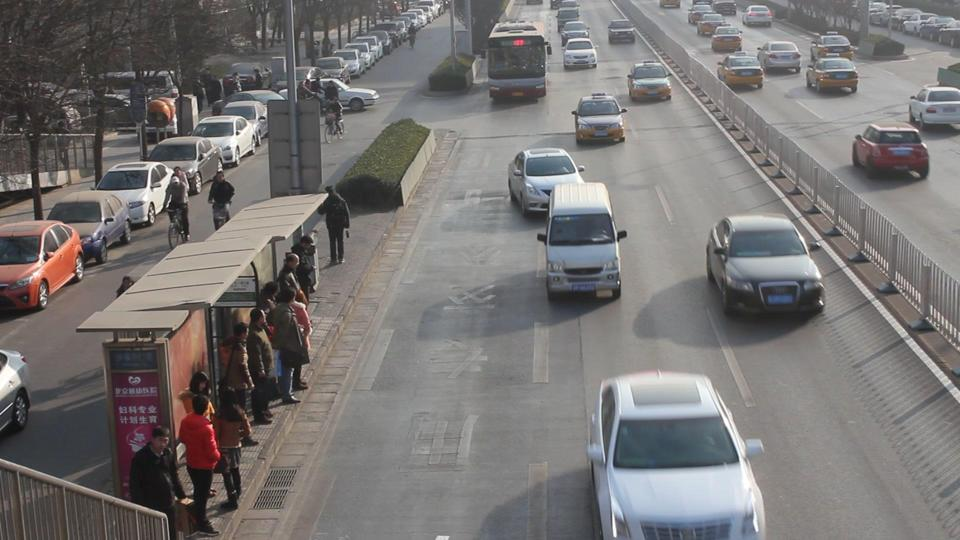Bus: (487, 21, 546, 102)
Car: (589, 374, 766, 540), (707, 213, 825, 319), (509, 149, 585, 214), (852, 120, 930, 180), (575, 95, 625, 144), (909, 88, 960, 131), (806, 56, 859, 92), (629, 61, 672, 103), (718, 51, 763, 88), (756, 40, 801, 74), (811, 31, 854, 63), (564, 39, 598, 68), (711, 24, 742, 52), (608, 18, 635, 44), (698, 11, 726, 36), (561, 20, 589, 43)
Minivan: (547, 183, 622, 300)
